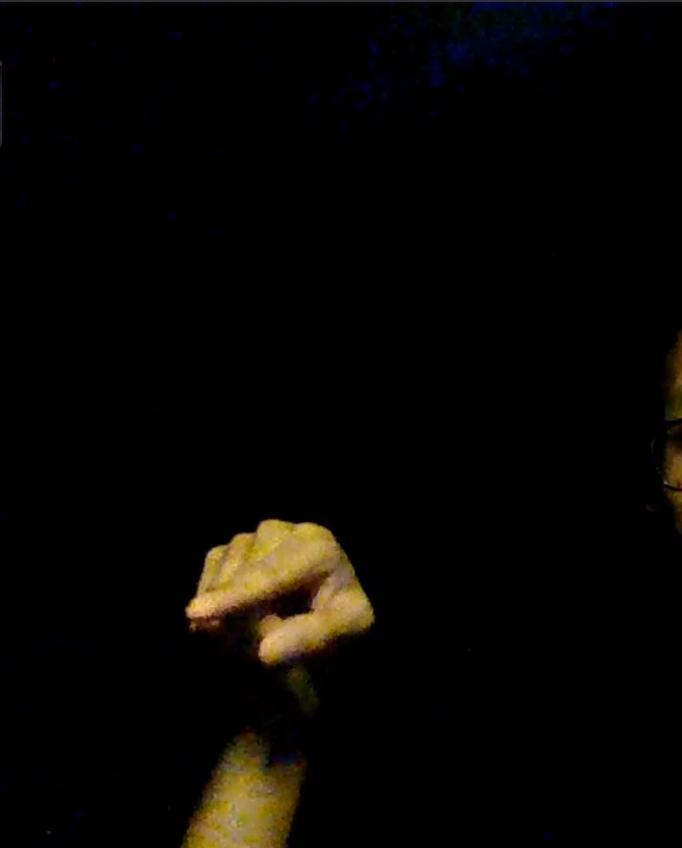z: (174, 513, 376, 676)
